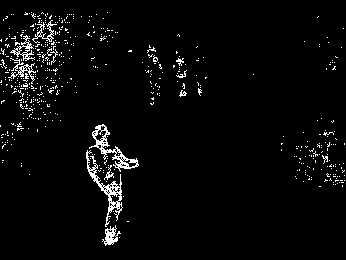person: (80, 123, 144, 248)
